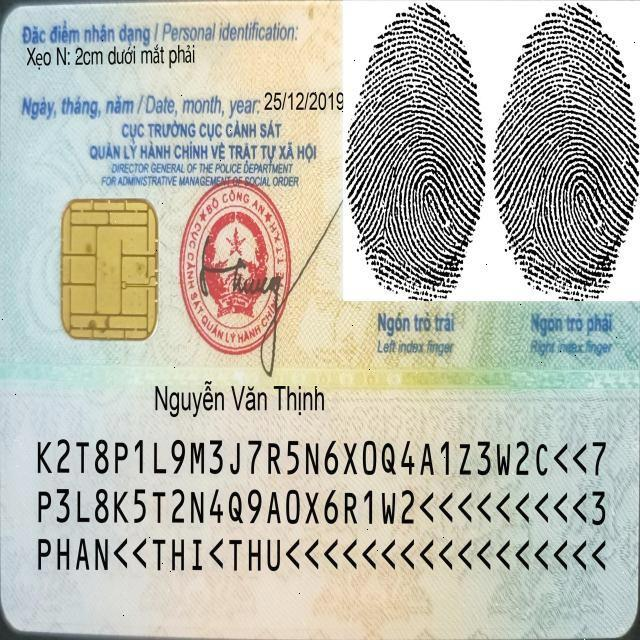features: (20, 42, 212, 72)
finger_print: (489, 2, 640, 358), (344, 2, 491, 359)
issue_date: (261, 86, 346, 117)
